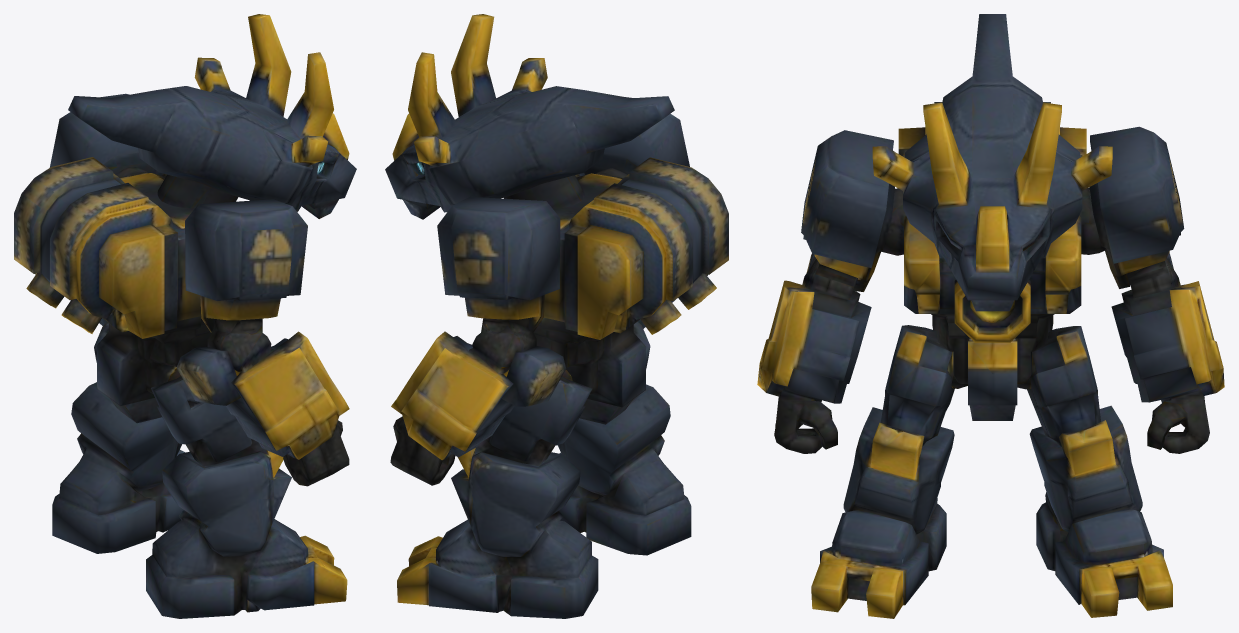
The model's file is triceratron.glb.
3 renders of one model, left to right at view 1: azimuth 30°, elevation 25°; view 2: azimuth 150°, elevation 25°; view 3: azimuth 270°, elevation 25°, orthographic. The views are drawn at different scales.
Parts seen in each view (by area): view 1: tripo_node_9c3e48f2-bdb5-4ea4-8861-6220868bf8eb; view 2: tripo_node_9c3e48f2-bdb5-4ea4-8861-6220868bf8eb; view 3: tripo_node_9c3e48f2-bdb5-4ea4-8861-6220868bf8eb.
Part boxes in pixels (box(x1,y1,x2,y2)): tripo_node_9c3e48f2-bdb5-4ea4-8861-6220868bf8eb: box(14, 14, 356, 618); tripo_node_9c3e48f2-bdb5-4ea4-8861-6220868bf8eb: box(385, 14, 728, 618); tripo_node_9c3e48f2-bdb5-4ea4-8861-6220868bf8eb: box(757, 14, 1224, 618).
Size of the model in its own units: 0.6387 by 0.998 by 0.8145.
1 material, 1 textured.
